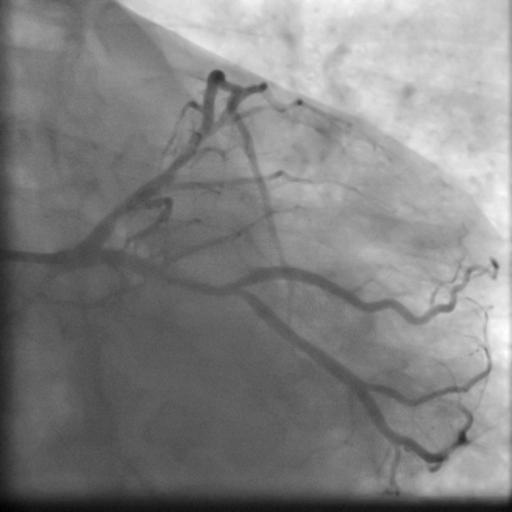Stenosis: (101, 203, 137, 222)
